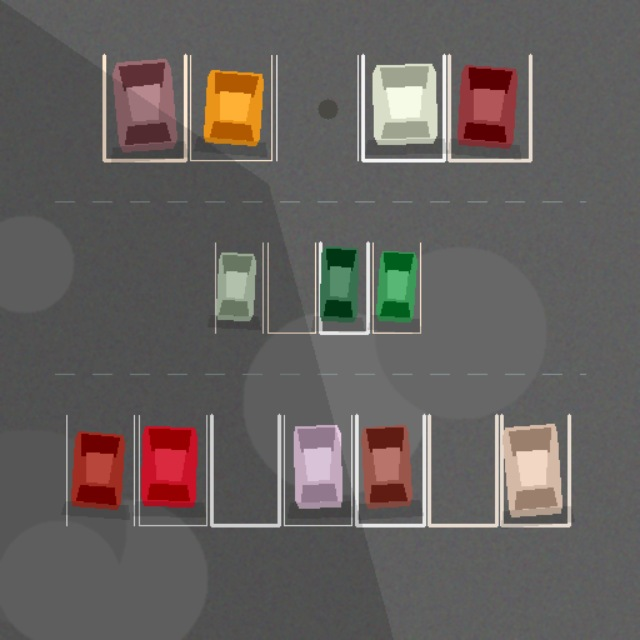space-empty: (276, 55, 357, 160), (211, 415, 279, 525), (429, 415, 496, 525), (267, 243, 315, 333)
space-occupied: (104, 55, 185, 160), (190, 55, 271, 160), (363, 55, 444, 160), (449, 55, 530, 160), (66, 415, 134, 525), (356, 415, 424, 525), (501, 415, 569, 525), (139, 415, 206, 525), (284, 415, 351, 525), (215, 243, 263, 333), (320, 243, 367, 333), (373, 243, 420, 333)
